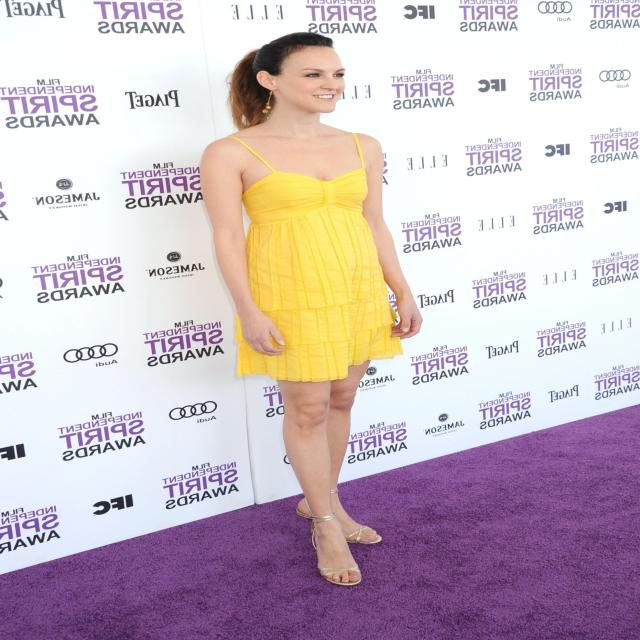no-earmuff: (246, 62, 288, 104)
